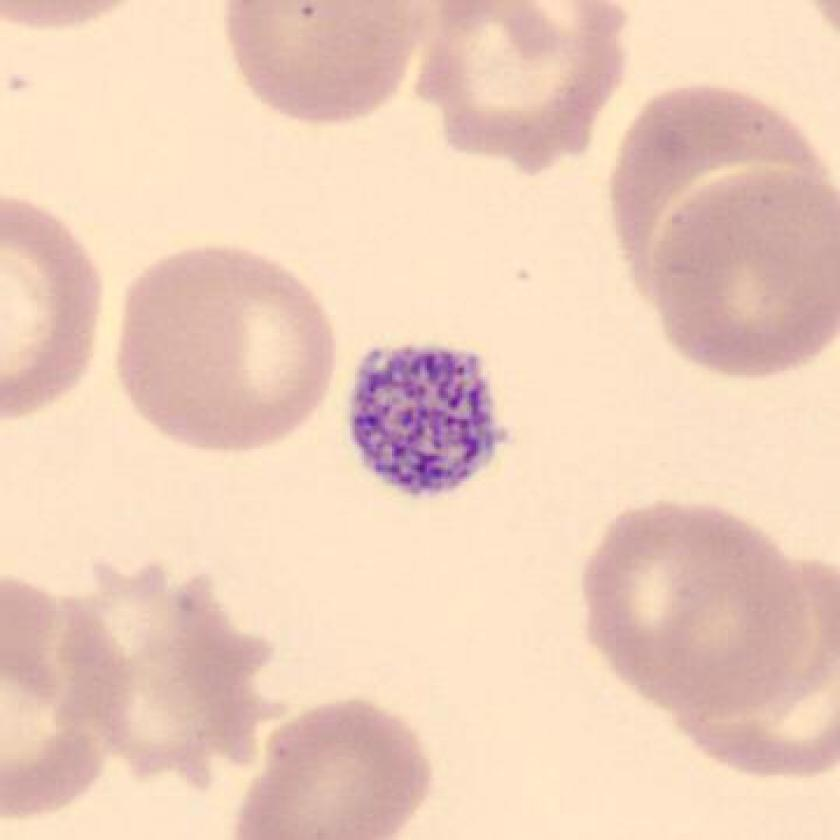platelets: (330, 332, 517, 517)
